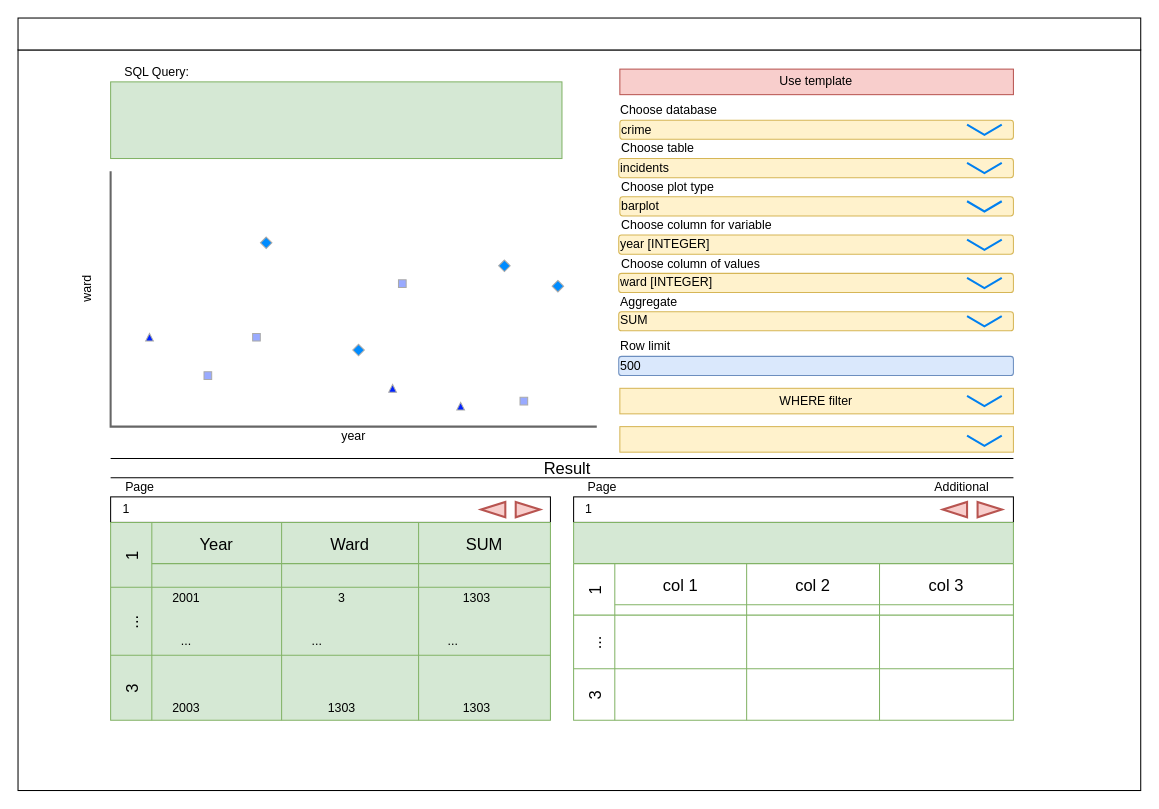
Some shapes in this 1159 by 809 pixel diagram are drawn without their labels. The box of each missing label's shape, as (x1, y1, x2, y2) in pixels:
Additional columns: (619, 426, 1013, 452)
Additional table: (573, 521, 1013, 720)
SELECT year, SUM(ward) AS ward FROM crime.incidents GROUP BY year LIMIT 500;: (110, 81, 562, 159)
STREAMLIT: (17, 17, 1141, 50)
